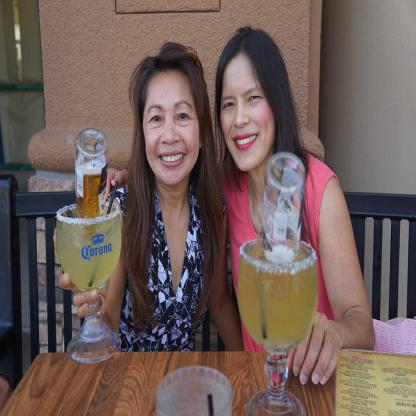drinking: (237, 238, 319, 415), (57, 202, 121, 364), (75, 128, 109, 258)
